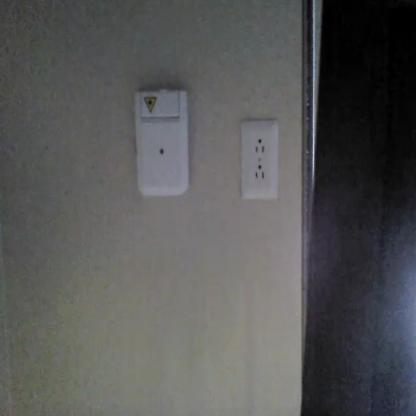OUTLET: (240, 119, 280, 201)
